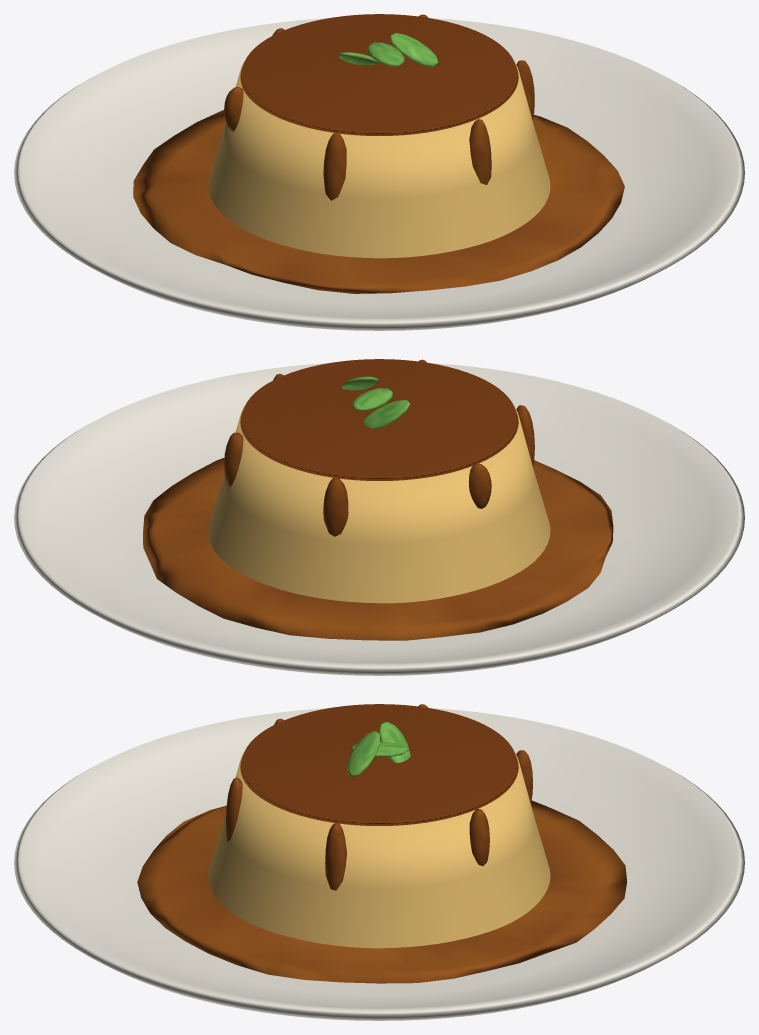
The model's file is pudim.glb.
3 renders of one model, top to bottom at view 1: azimuth 30°, elevation 25°; view 2: azimuth 150°, elevation 25°; view 3: azimuth 270°, elevation 25°, orthographic.
Bounding box in the file's own units: 0.244 × 0.0658 × 0.244.
